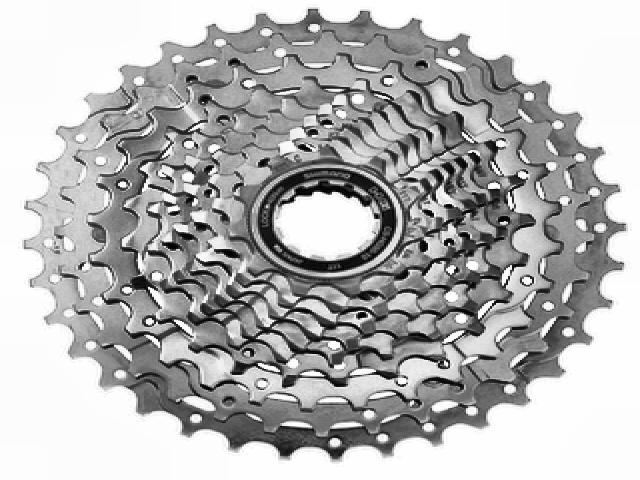cassette: (24, 9, 629, 465)
